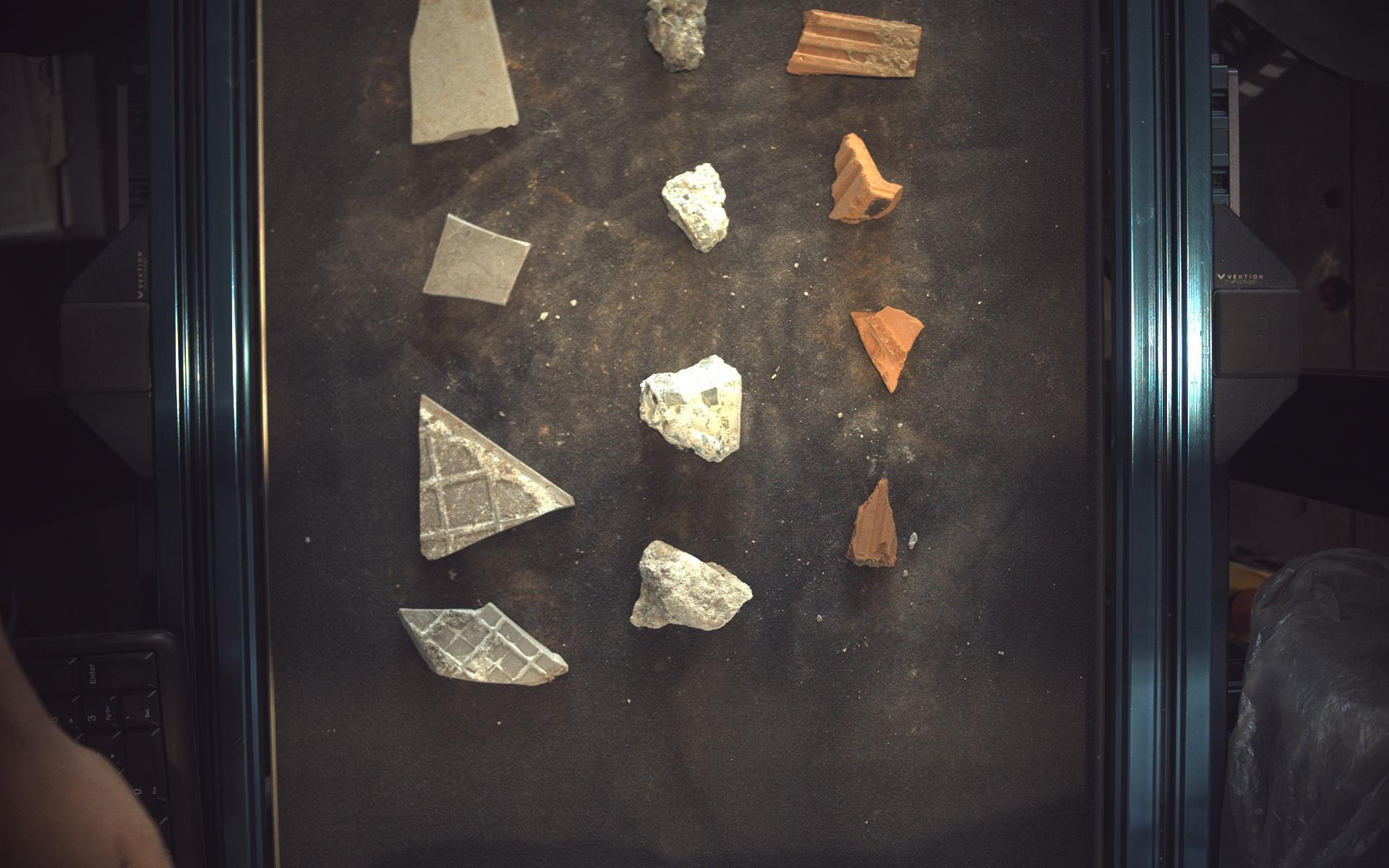brick: (789, 8, 924, 76), (831, 132, 904, 223), (853, 306, 925, 392), (848, 479, 899, 568)
concrete: (632, 540, 753, 631), (641, 354, 742, 462), (663, 162, 730, 252), (647, 1, 708, 70)
tile: (419, 396, 575, 561), (409, 1, 519, 143), (399, 604, 568, 686), (423, 213, 530, 305)
